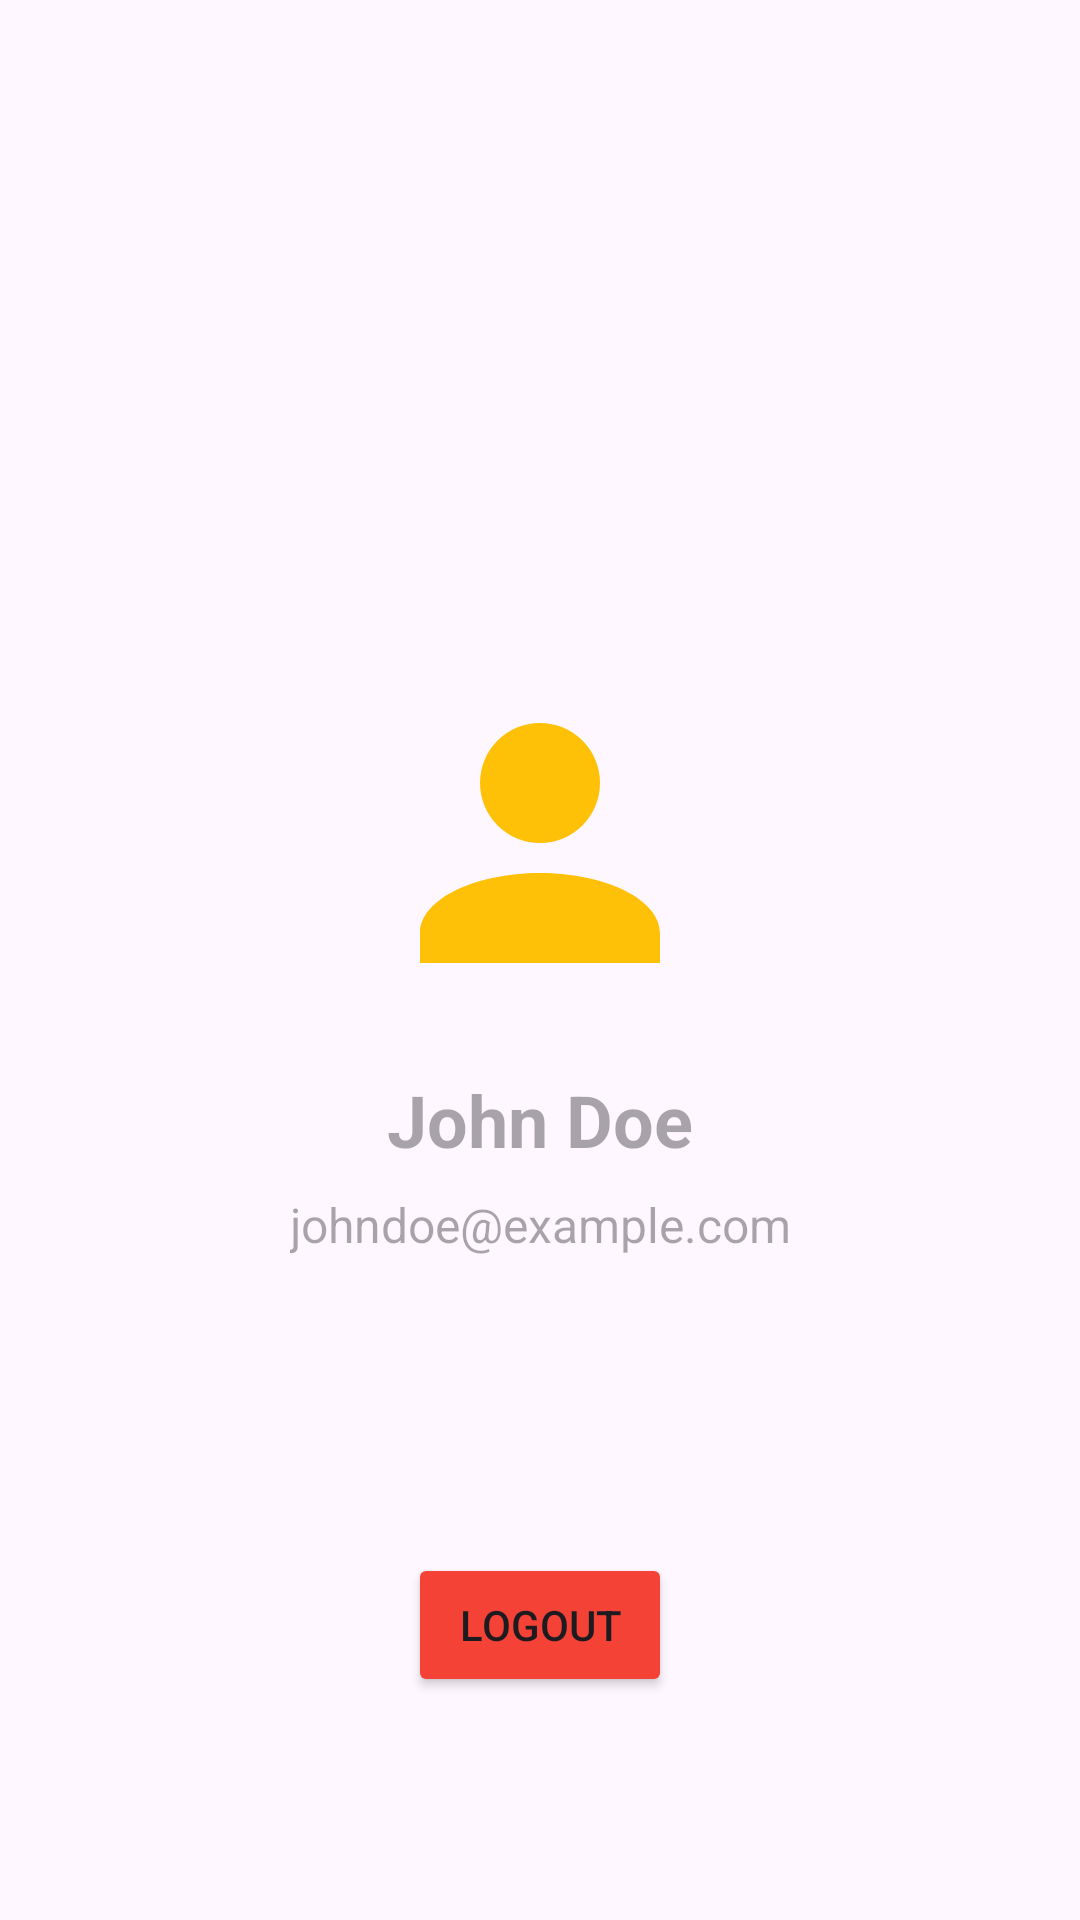

Locate icon controls on the screen. Image size 1080px x 1920px, boxes as (x1, y1, x2, y2).
profile: (420, 723, 660, 963)
